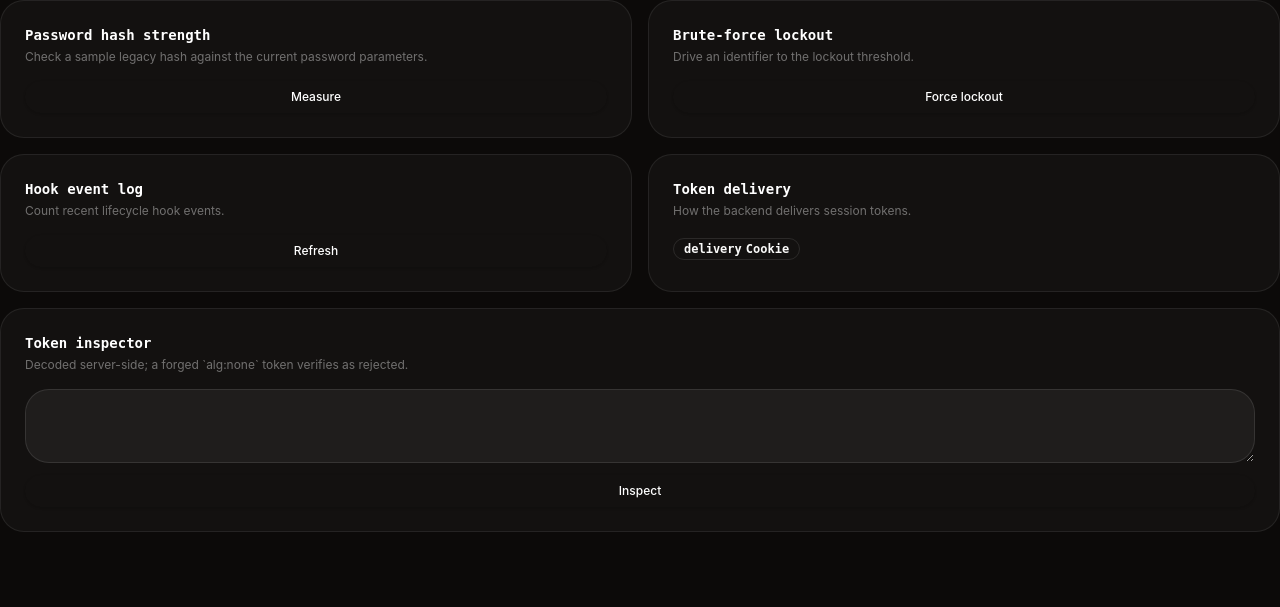
Test: DiagnosticsMatrix — delivery + token inspector › shows a valid signature + algorithm for a verified token
This screenshot has width=1280, height=607.
Type "a.b.c" into the text box named "JWT to inspect" at [640, 426], box [25,389,1255,463]
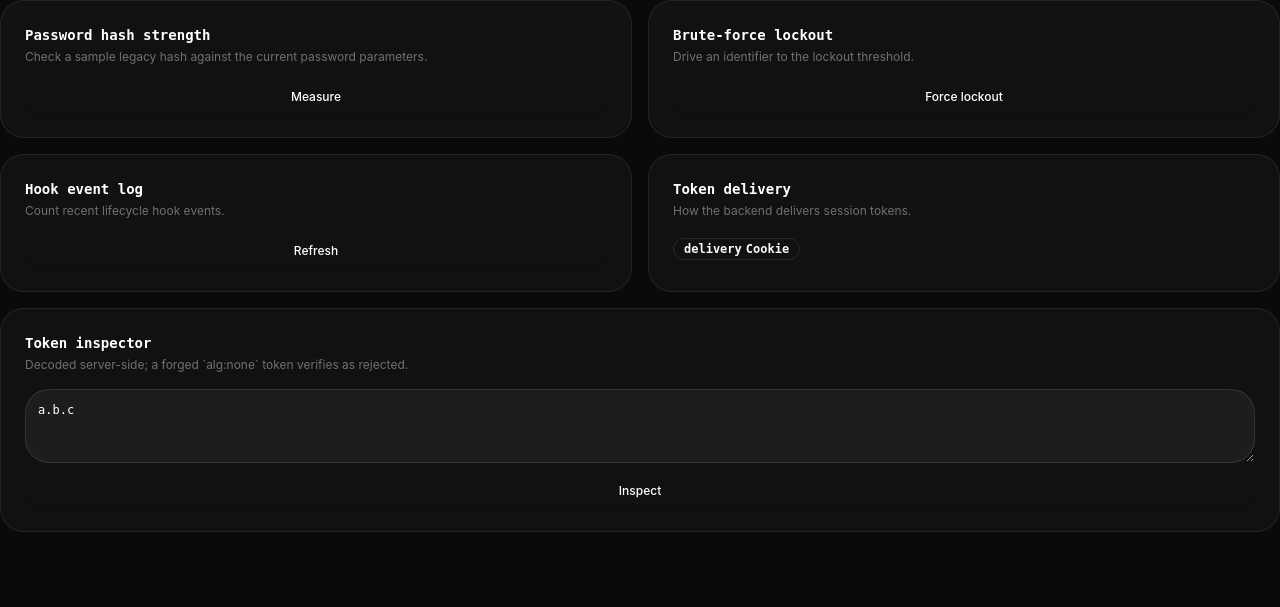
Click the button "Inspect" at [640, 491], box [25,475,1255,507]
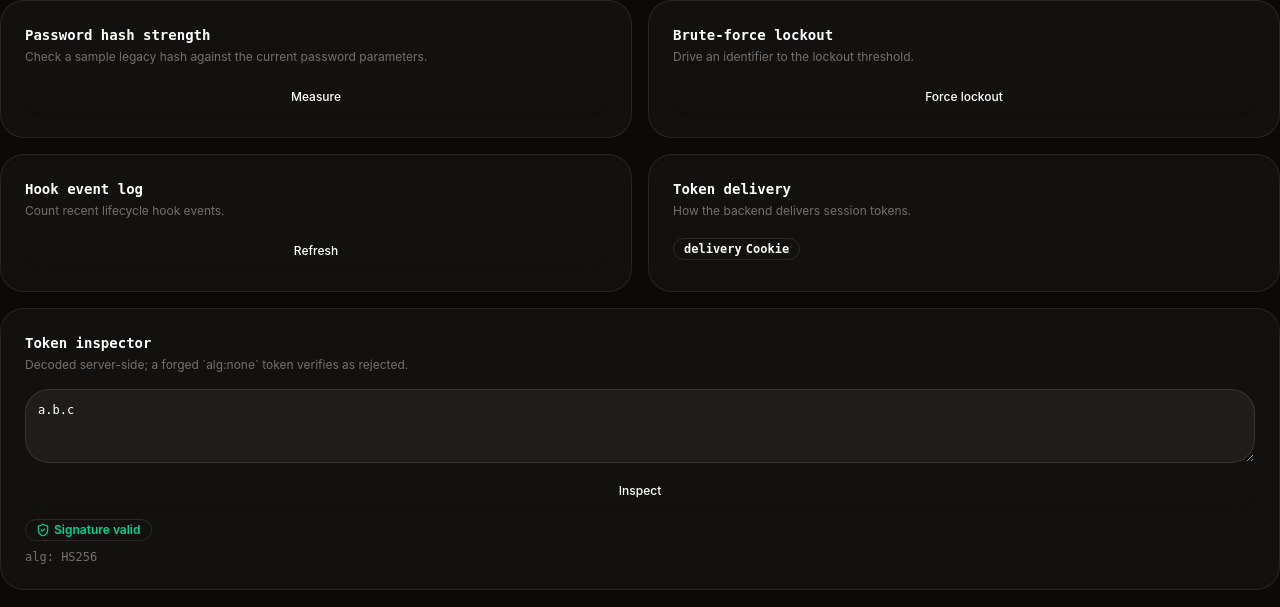
Result: the text "Signature valid" is shown at [25,519,152,541]
Result: the text "alg: HS256" is shown at [25,550,97,564]
